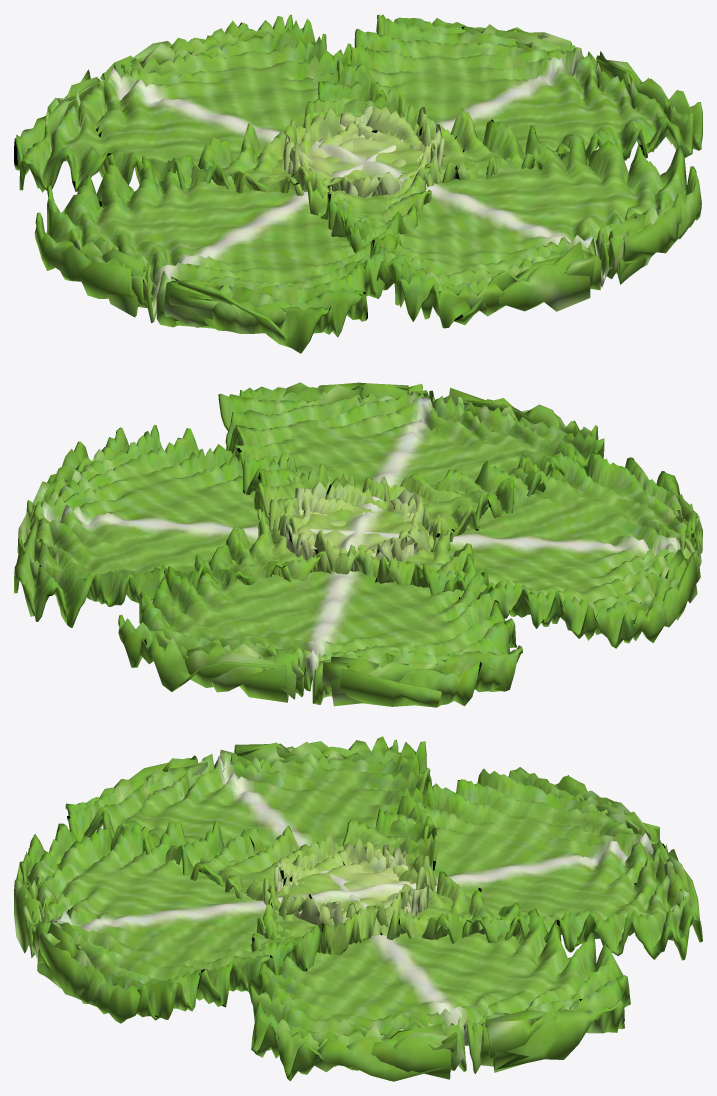
Rendered from lettuce_leaf.glb.
3 views of the same model, one above another, from view 1: azimuth 30°, elevation 25°; view 2: azimuth 150°, elevation 25°; view 3: azimuth 270°, elevation 25° (orthographic). The views are drawn at different scales.
Parts seen in each view (by area): view 1: lettuce_leaf_web; view 2: lettuce_leaf_web; view 3: lettuce_leaf_web.
Boxes of the visible parts, x1,y1,x2,y2 form: lettuce_leaf_web: [14, 14, 702, 353]; lettuce_leaf_web: [14, 382, 702, 707]; lettuce_leaf_web: [14, 736, 702, 1081].
Bounding box in the file's own units: 0.1273 × 0.0144 × 0.1216.
Materials: 1 (1 with a texture image).
